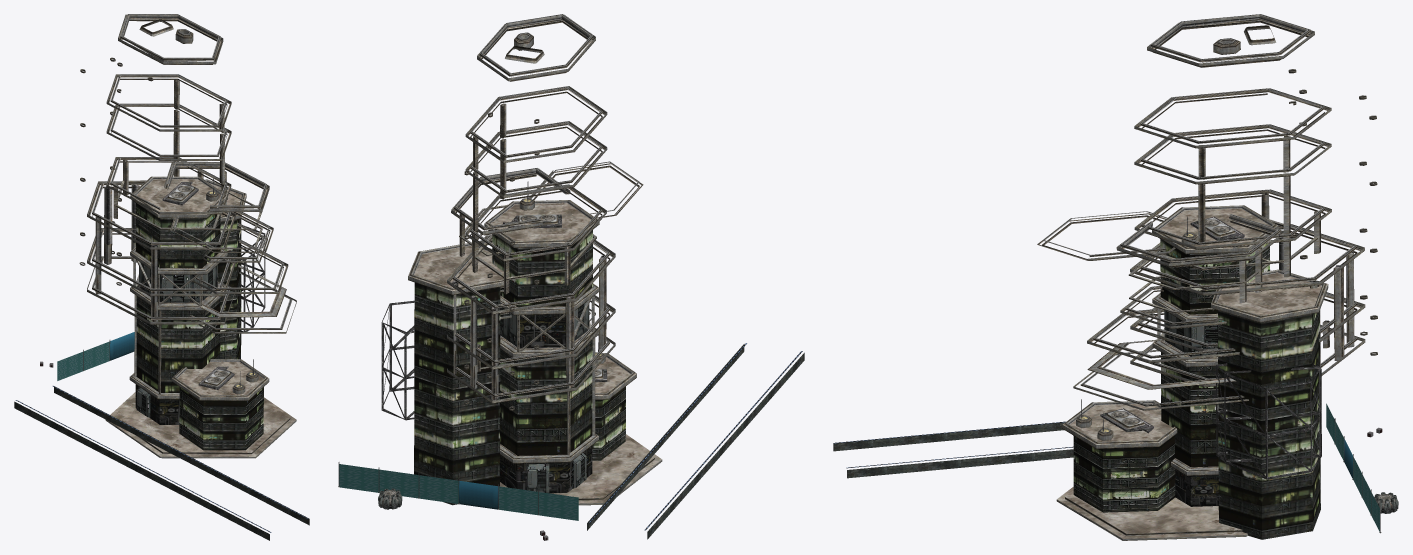
Rendered from site_05.glb.
3 renders of one model, left to right at view 1: azimuth 30°, elevation 25°; view 2: azimuth 150°, elevation 25°; view 3: azimuth 270°, elevation 25°, orthographic. The views are drawn at different scales.
Parts seen in each view (by area): view 1: CHR_1B.303_mat_106.002_0, CHR_1B.251_mat_85.003_0, CHR_1B.340_mat_107.002_0, CHR_1B.302_mat_105.002_0, CHR_1B.218_mat_82.003_0, CHR_1B.287_mat_101.003_0, CHR_1B.350_mat_111.002_0, CHR_1B.298_mat_103.002_0, CHR_1B.263_mat_88.003_0, CHR_1B.1031_mat_164.001_0, CHR_1B.1032_mat_164.001_0, CHR_1B.1108_mat_180_0 (+1 smaller); view 2: CHR_1B.251_mat_85.003_0, CHR_1B.303_mat_106.002_0, CHR_1B.340_mat_107.002_0, CHR_1B.302_mat_105.002_0, CHR_1B.298_mat_103.002_0, CHR_1B.218_mat_82.003_0, CHR_1B.350_mat_111.002_0, CHR_1B.287_mat_101.003_0, CHR_1B.1031_mat_164.001_0, CHR_1B.1035_mat_164.001_0, CHR_1B.1032_mat_164.001_0, CHR_1B.1033_mat_164.001_0 (+3 smaller); view 3: CHR_1B.251_mat_85.003_0, CHR_1B.303_mat_106.002_0, CHR_1B.340_mat_107.002_0, CHR_1B.302_mat_105.002_0, CHR_1B.218_mat_82.003_0, CHR_1B.350_mat_111.002_0, CHR_1B.298_mat_103.002_0, CHR_1B.287_mat_101.003_0.
Boxes of the visible parts, x1,y1,x2,y2 form: CHR_1B.303_mat_106.002_0: [79, 14, 296, 333]; CHR_1B.251_mat_85.003_0: [136, 203, 263, 450]; CHR_1B.340_mat_107.002_0: [110, 179, 296, 456]; CHR_1B.302_mat_105.002_0: [105, 176, 296, 458]; CHR_1B.218_mat_82.003_0: [14, 386, 309, 540]; CHR_1B.287_mat_101.003_0: [136, 262, 217, 417]; CHR_1B.350_mat_111.002_0: [162, 178, 265, 389]; CHR_1B.298_mat_103.002_0: [135, 384, 179, 424]; CHR_1B.263_mat_88.003_0: [15, 386, 308, 532]; CHR_1B.1031_mat_164.001_0: [57, 352, 83, 380]; CHR_1B.1032_mat_164.001_0: [84, 341, 109, 370]; CHR_1B.1108_mat_180_0: [110, 332, 134, 360]; CHR_1B.251_mat_85.003_0: [414, 230, 625, 505]; CHR_1B.303_mat_106.002_0: [447, 14, 643, 410]; CHR_1B.340_mat_107.002_0: [414, 203, 661, 503]; CHR_1B.302_mat_105.002_0: [408, 198, 662, 505]; CHR_1B.298_mat_103.002_0: [500, 314, 592, 493]; CHR_1B.218_mat_82.003_0: [587, 344, 804, 539]; CHR_1B.350_mat_111.002_0: [381, 181, 607, 420]; CHR_1B.287_mat_101.003_0: [500, 302, 589, 493]; CHR_1B.1031_mat_164.001_0: [539, 492, 578, 520]; CHR_1B.1035_mat_164.001_0: [339, 464, 378, 492]; CHR_1B.1032_mat_164.001_0: [499, 486, 538, 515]; CHR_1B.1033_mat_164.001_0: [419, 475, 458, 503]; CHR_1B.251_mat_85.003_0: [1073, 239, 1320, 539]; CHR_1B.303_mat_106.002_0: [1037, 14, 1377, 410]; CHR_1B.340_mat_107.002_0: [1057, 208, 1321, 538]; CHR_1B.302_mat_105.002_0: [1056, 205, 1328, 540]; CHR_1B.218_mat_82.003_0: [833, 422, 1073, 478]; CHR_1B.350_mat_111.002_0: [1081, 216, 1321, 479]; CHR_1B.298_mat_103.002_0: [1175, 469, 1218, 506]; CHR_1B.287_mat_101.003_0: [1164, 310, 1217, 356].
Bounding box in the file's own units: 107 × 164 × 183.
24 materials, 24 textured.
